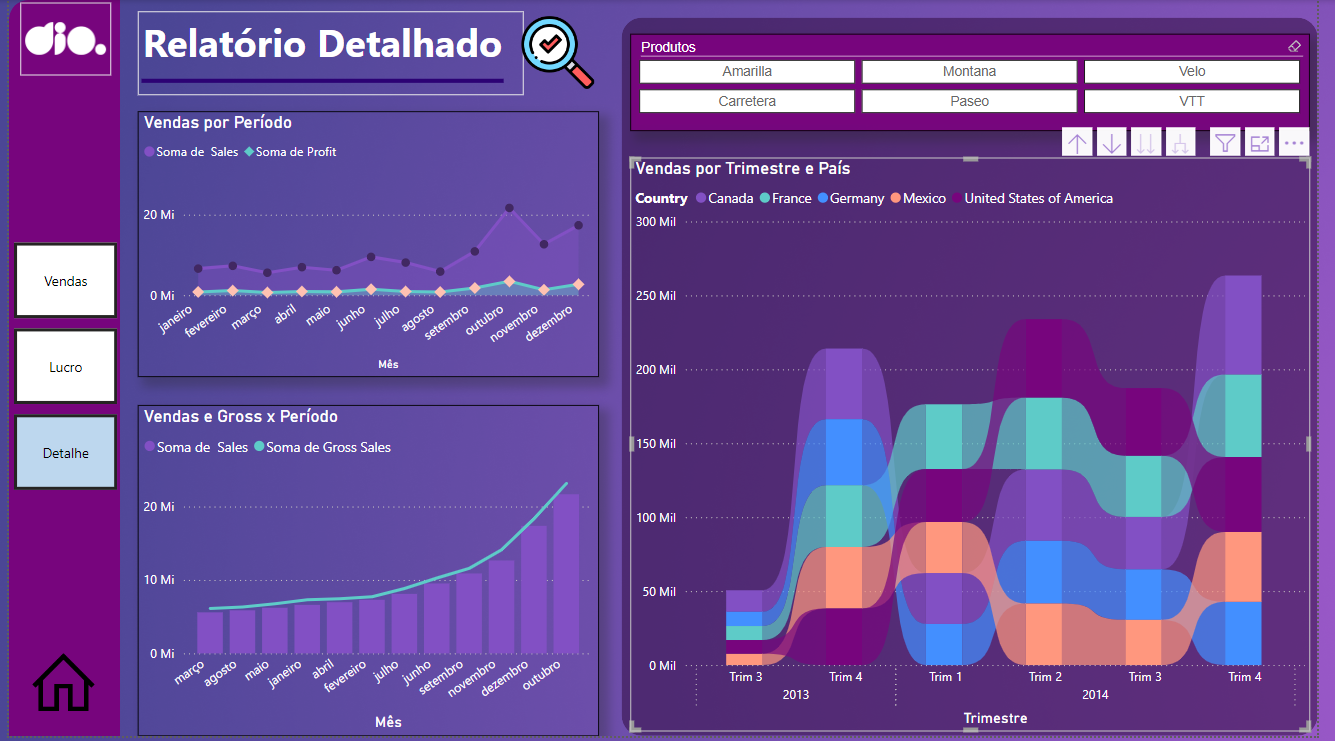

This screenshot's page, from the dashboard's own definition file:
{"tool":"powerbi","page":{"name":"Detalhe","canvas":[1280,720],"ordinal":2},"visuals":[{"type":"shape","box":[0,0,108.8,720.2],"z":0},{"type":"image","box":[11,2.4,89.3,70.9],"z":1000},{"type":"shape","box":[129,67.2,354.3,26],"z":1000,"group":"g1"},{"type":"areaChart","title":"Vendas por Período","fields":{"Category":["financials.Date.Variation.Hierarquia de datas.Trimestre","financials.Date.Variation.Hierarquia de datas.Mês"],"Y":["Sum(financials. Sales)","Sum(financials.Profit)"]},"box":[125.8,108.5,451.2,260.3],"z":2000},{"type":"textbox","box":[125.8,11.6,377.4,60.7],"z":3000,"group":"g1"},{"type":"shape","box":[598.7,17.4,681.1,702.8],"z":3000},{"type":"group","id":"g1","title":"Título","box":[125.8,11.6,377.4,81.6],"z":4000},{"type":"ribbonChart","title":"Vendas por Trimestre e País","fields":{"Category":["financials.Date.Variation.Hierarquia de datas.Ano","financials.Date.Variation.Hierarquia de datas.Trimestre"],"Y":["Sum(financials.Units Sold)"],"Series":["financials.Country"]},"box":[607.7,154.1,665.2,561.3],"z":5000},{"type":"ChicletSlicer1448559807354","fields":{"Category":["financials.Product"]},"box":[607.3,33.3,665.2,95.4],"z":6000},{"type":"lineClusteredColumnComboChart","title":"Vendas e Gross x Período","fields":{"Category":["financials.Date.Variation.Hierarquia de datas.Mês"],"Y":["Sum(financials. Sales)"],"Y2":["Sum(financials.Gross Sales)"]},"box":[125.8,396.2,451.2,323.9],"z":7000},{"type":"pageNavigator","box":[4.3,237.1,101.2,244.4],"z":8000},{"type":"image","box":[4.3,629,96.9,81],"z":9000},{"type":"image","box":[496,11.6,81,81],"z":10000}]}

Visuals, with their boxes in screenshot pixels (x1, y1, x2, y2), scaled from the page's 1280x720 canvas onto the 1335x741 screenshot:
shape: [left=0, top=0, right=113, bottom=740]
image: [left=11, top=2, right=105, bottom=75]
shape: [left=135, top=69, right=504, bottom=96]
"Vendas por Período" areaChart: [left=131, top=112, right=602, bottom=380]
textbox: [left=131, top=12, right=525, bottom=74]
shape: [left=624, top=18, right=1334, bottom=740]
"Título" group: [left=131, top=12, right=525, bottom=96]
"Vendas por Trimestre e País" ribbonChart: [left=634, top=159, right=1328, bottom=736]
ChicletSlicer1448559807354 - financials.Product: [left=633, top=34, right=1327, bottom=132]
"Vendas e Gross x Período" lineClusteredColumnComboChart: [left=131, top=408, right=602, bottom=740]
pageNavigator: [left=4, top=244, right=110, bottom=496]
image: [left=4, top=647, right=106, bottom=731]
image: [left=517, top=12, right=602, bottom=95]
